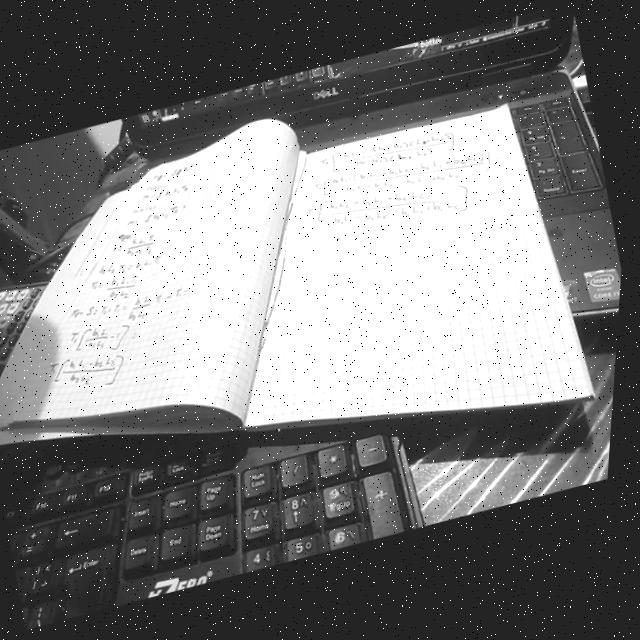document: (0, 105, 590, 426)
